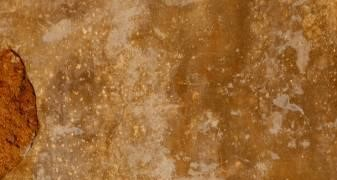Corrosion: (1, 46, 40, 180)
